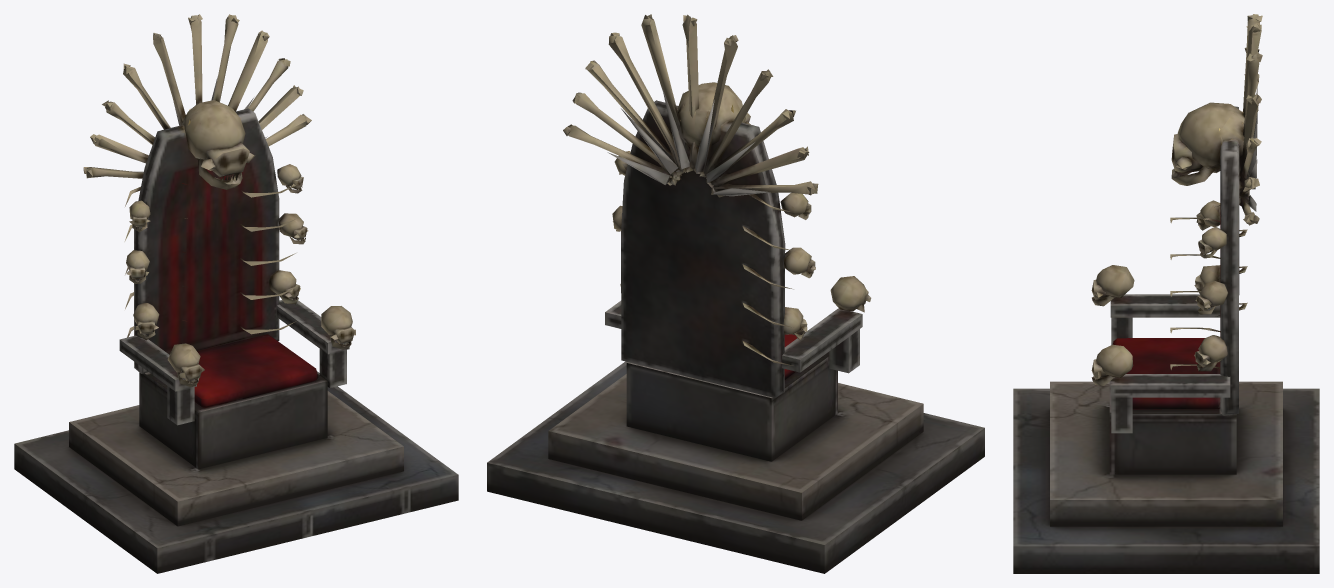
Rendered from throne.glb.
The picture shows the model from 3 angles, left to right: view 1: azimuth 30°, elevation 25°; view 2: azimuth 150°, elevation 25°; view 3: azimuth 270°, elevation 25°; orthographic projection. The views are drawn at different scales.
Parts seen in each view (by area): view 1: throne; view 2: throne; view 3: throne.
Part boxes in pixels (x1,y1,x2,y2): throne: (14, 14, 458, 573); throne: (487, 14, 984, 573); throne: (1013, 14, 1319, 573).
Bounding box in the file's own units: 2.77 × 3.85 × 2.27.
Materials: 1 (1 with a texture image).
